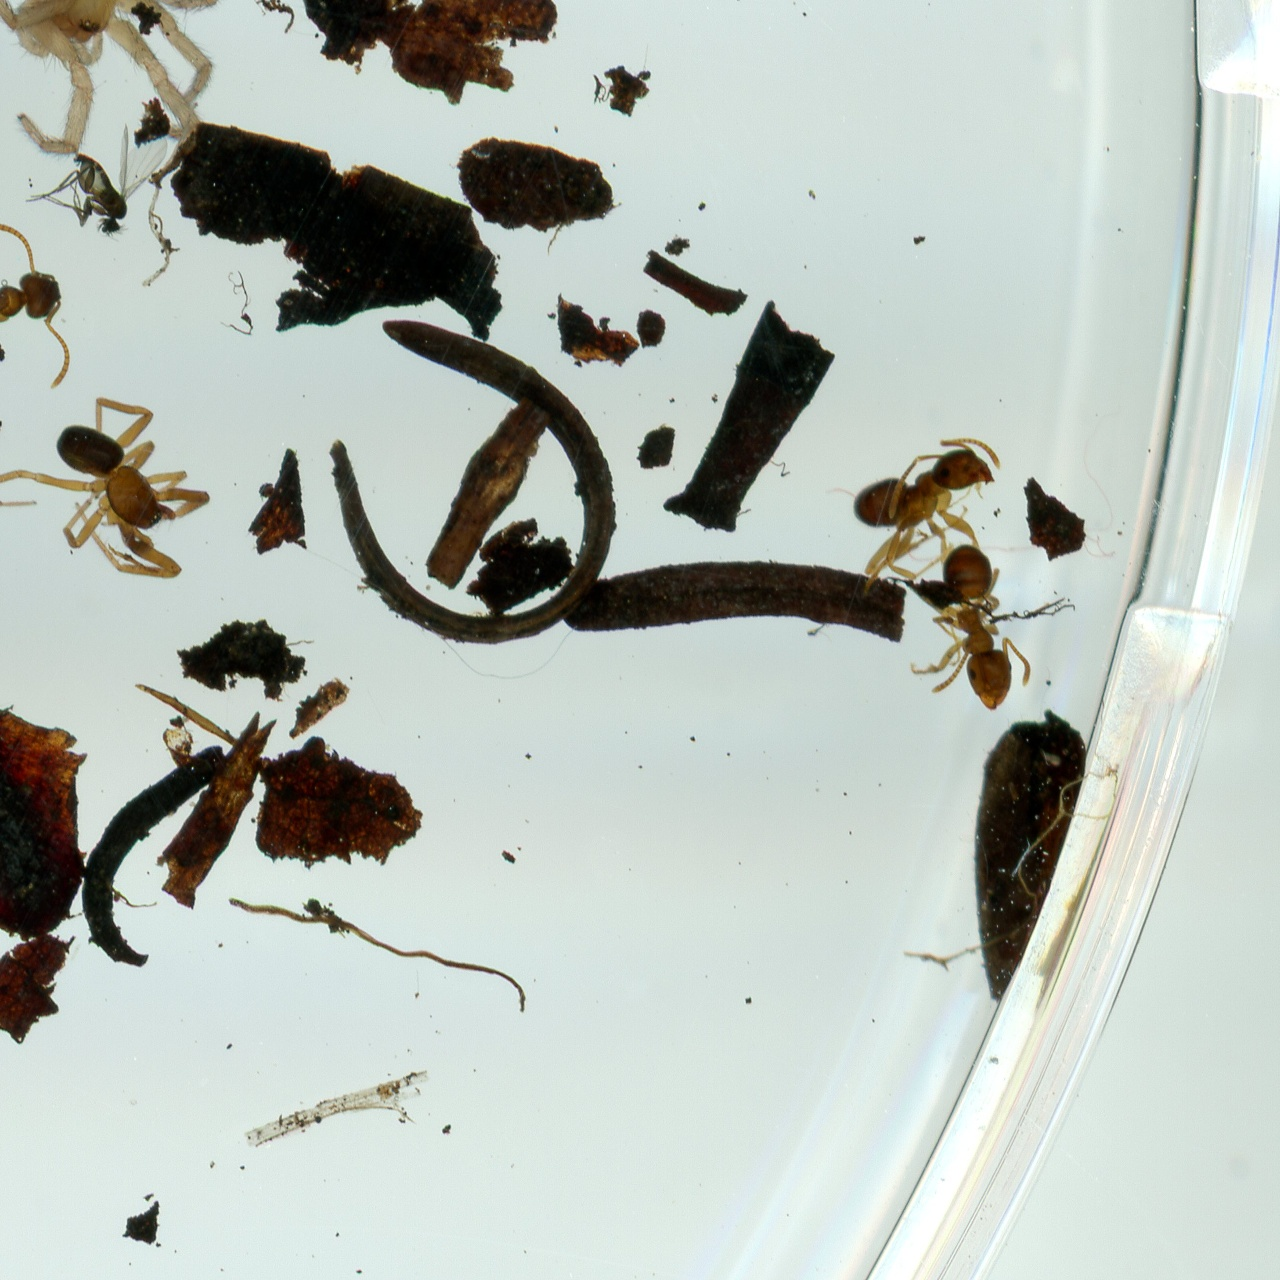arthropod: (0, 398, 215, 584), (0, 0, 249, 146), (854, 435, 1003, 591), (909, 545, 1031, 715), (28, 126, 174, 228), (0, 219, 74, 389)
